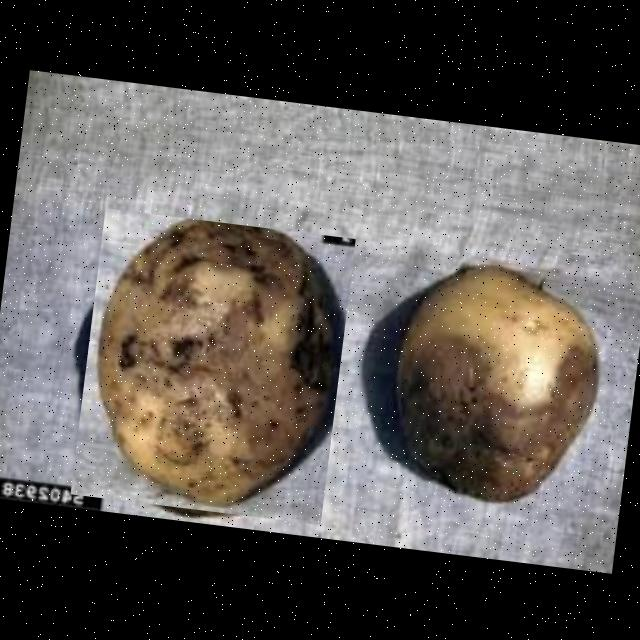Damaged potato: (69, 206, 354, 524), (371, 250, 606, 504)
